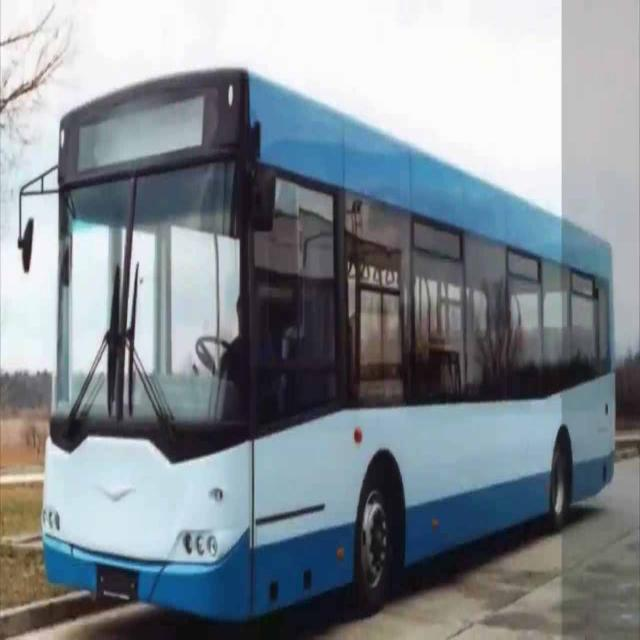bus: (31, 58, 620, 624)
